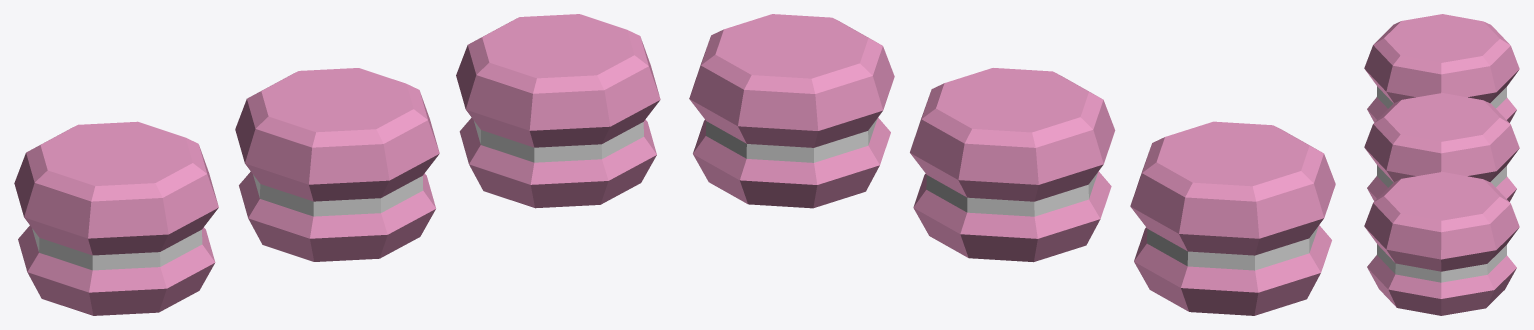
Rendered from Macaron_3.fbx.
3 views of the same model, side by side, from view 1: azimuth 30°, elevation 25°; view 2: azimuth 150°, elevation 25°; view 3: azimuth 270°, elevation 25° (orthographic). The views are drawn at different scales.
Parts seen in each view (by area): view 1: Macaron_3; view 2: Macaron_3; view 3: Macaron_3.
Part boxes in pixels (x1=…): Macaron_3: x1=14, y1=14, x2=660, y2=315; Macaron_3: x1=689, y1=14, x2=1335, y2=315; Macaron_3: x1=1364, y1=14, x2=1519, y2=315.
Size of the model in its own units: 27.63 by 5.36 by 8.13.
